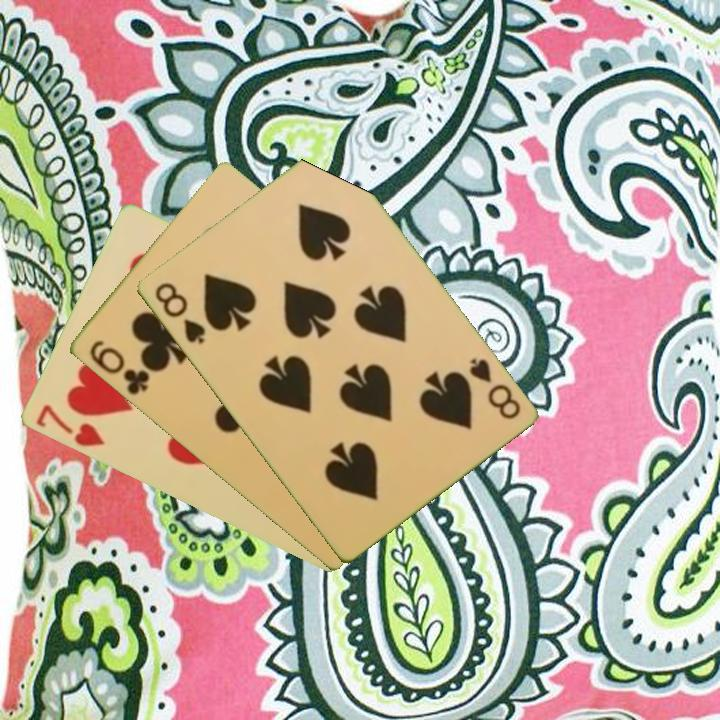6c: (85, 336, 152, 399)
7h: (32, 401, 107, 450)
8s: (150, 278, 208, 347), (465, 354, 523, 422)
